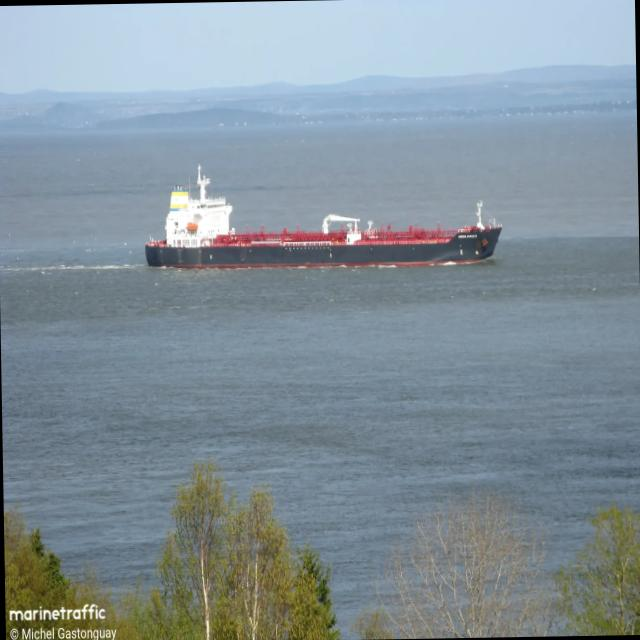Tanker: (144, 165, 502, 268)
